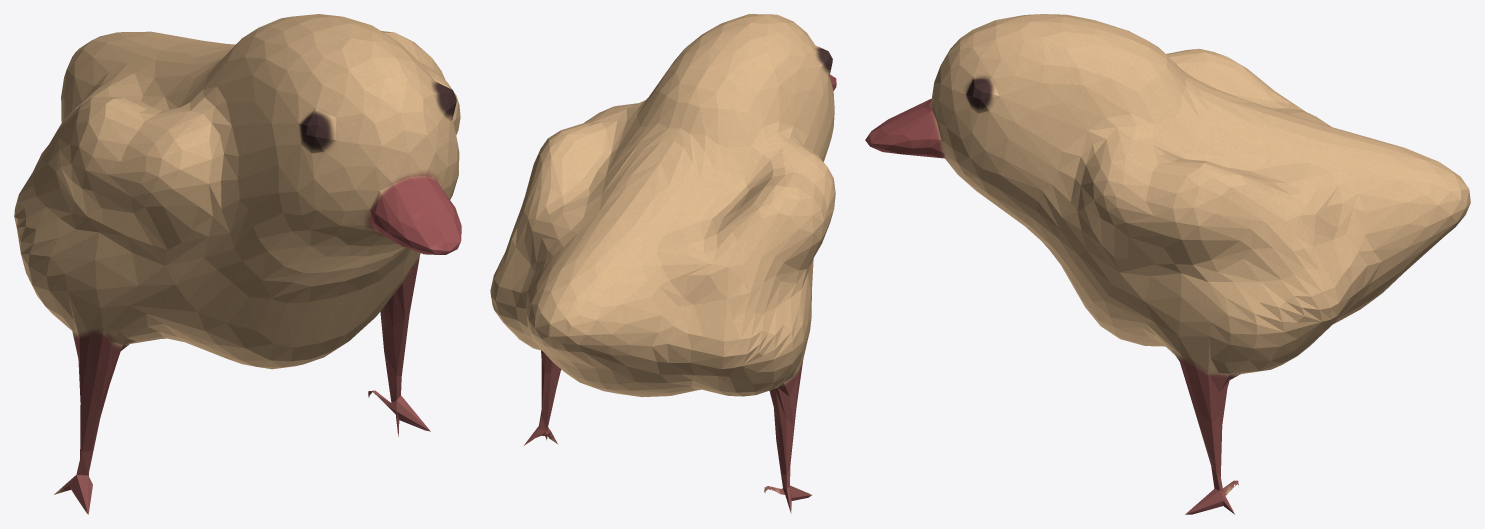
File: chicken_1.obj
3 views of the same model, side by side, from view 1: azimuth 30°, elevation 25°; view 2: azimuth 150°, elevation 25°; view 3: azimuth 270°, elevation 25° (orthographic). The views are drawn at different scales.
Parts seen in each view (by area): view 1: TRYout:Group36674_Group36674; view 2: TRYout:Group36674_Group36674; view 3: TRYout:Group36674_Group36674.
Part boxes in pixels (x1,y1,x2,y2): TRYout:Group36674_Group36674: (14,14,461,514); TRYout:Group36674_Group36674: (490,14,836,513); TRYout:Group36674_Group36674: (865,14,1470,514).
Size of the model in its own units: 3.76 by 4.85 by 6.22.
Materials: 1 (1 with a texture image).
